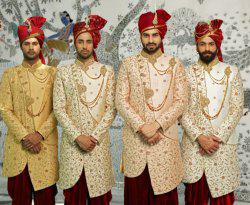Design Sherwani: (116, 42, 184, 195), (53, 53, 116, 199), (0, 59, 60, 191), (184, 57, 240, 198)
